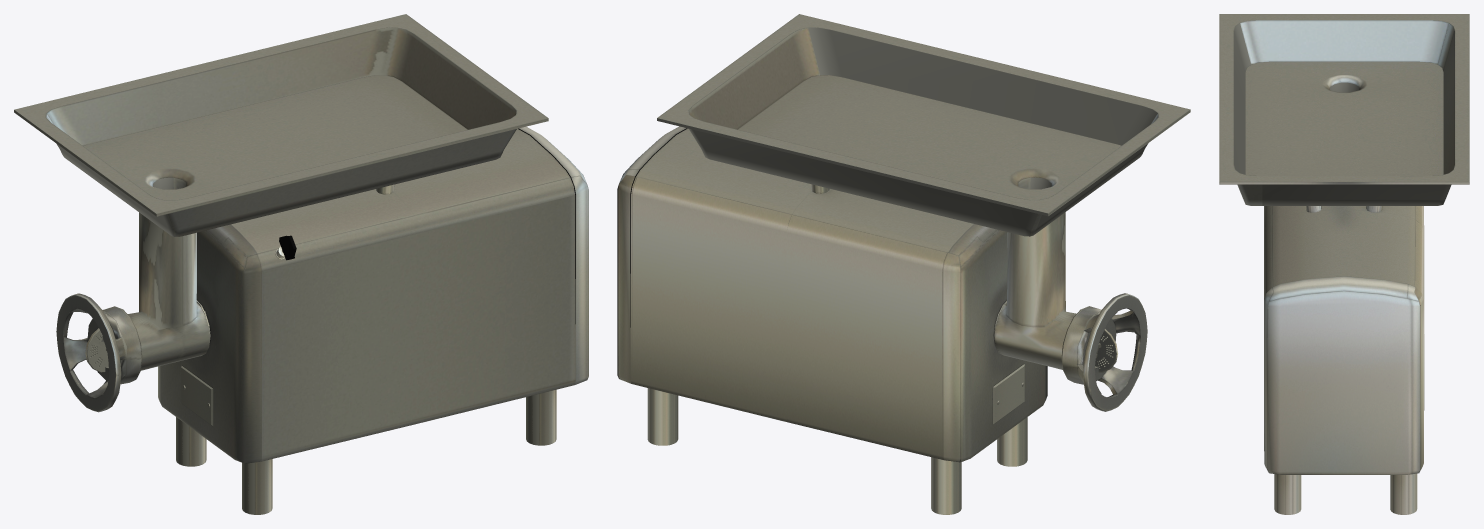
Rendered from Game_Blender2.glb.
3 views of the same model, side by side, from view 1: azimuth 30°, elevation 25°; view 2: azimuth 150°, elevation 25°; view 3: azimuth 270°, elevation 25° (orthographic). The views are drawn at different scales.
Parts seen in each view (by area): view 1: Body, Tray, Pipe, Cap, Disc; view 2: Body, Tray, Pipe, Cap, Disc; view 3: Tray, Body.
Boxes of the visible parts, left/top/right/bottom form: Body: left=158, top=126, right=588, bottom=514; Tray: left=14, top=14, right=548, bottom=236; Pipe: left=128, top=212, right=210, bottom=370; Cap: left=56, top=293, right=142, bottom=412; Disc: left=85, top=328, right=108, bottom=372; Body: left=617, top=126, right=1047, bottom=514; Tray: left=657, top=14, right=1190, bottom=236; Pipe: left=994, top=212, right=1076, bottom=369; Cap: left=1061, top=293, right=1147, bottom=411; Disc: left=1095, top=329, right=1117, bottom=372; Tray: left=1219, top=14, right=1469, bottom=205; Body: left=1264, top=206, right=1424, bottom=514.
Size of the model in its own units: 2.3 by 1.69 by 1.22.
1 material, 1 textured.
